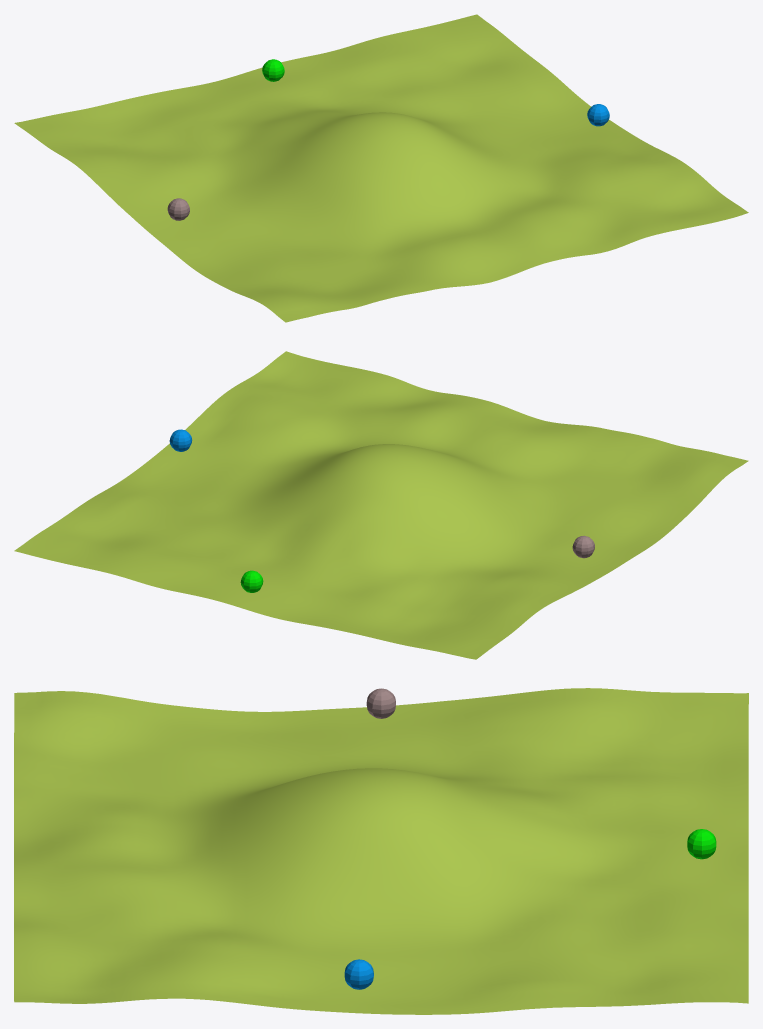
Rendered from marqueurs_bosse_pos3.fbx.
3 renders of one model, top to bottom at view 1: azimuth 30°, elevation 25°; view 2: azimuth 150°, elevation 25°; view 3: azimuth 270°, elevation 25°, orthographic. The views are drawn at different scales.
Visible parts, largest first — view 1: bosse_pos3; view 2: bosse_pos3; view 3: bosse_pos3, pSphere37, pSphere38, pSphere36.
Part boxes in pixels (left/top/right/bottom): bosse_pos3: left=14, top=14, right=748, bottom=322; bosse_pos3: left=14, top=351, right=748, bottom=659; bosse_pos3: left=14, top=688, right=748, bottom=1014; pSphere37: left=687, top=829, right=716, bottom=859; pSphere38: left=344, top=959, right=373, bottom=989; pSphere36: left=366, top=688, right=395, bottom=718.
Bounding box in the file's own units: 708 × 88.45 × 721.
